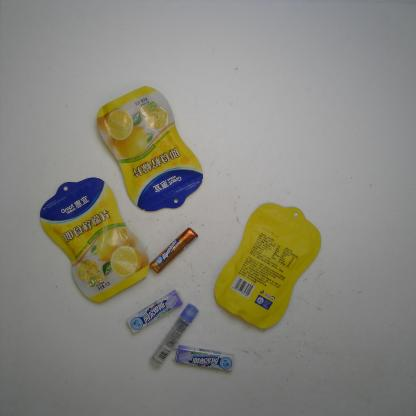Candy: (123, 286, 185, 337), (148, 226, 198, 276), (174, 344, 235, 375)
Dried Fruit: (212, 198, 324, 332), (95, 85, 206, 216), (38, 175, 149, 306)
Stationery: (148, 301, 202, 367)
